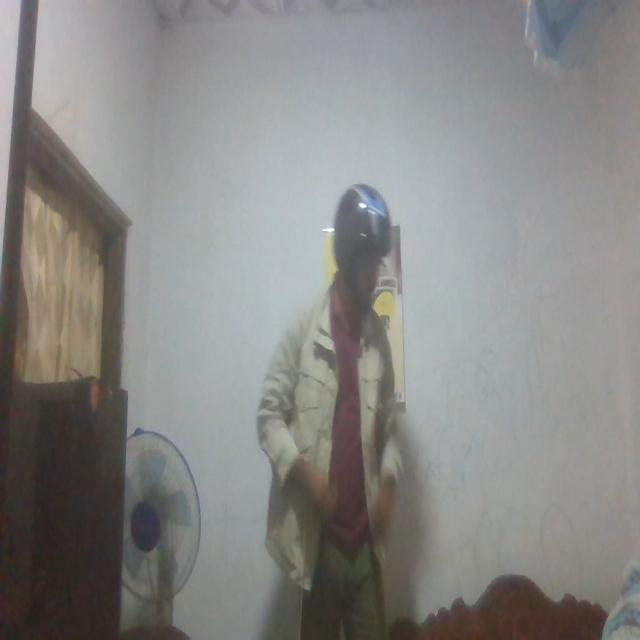Helmet_Wearer: (327, 180, 391, 306)
Jacket_Wearer: (264, 300, 404, 572)
Person: (258, 186, 423, 640)
